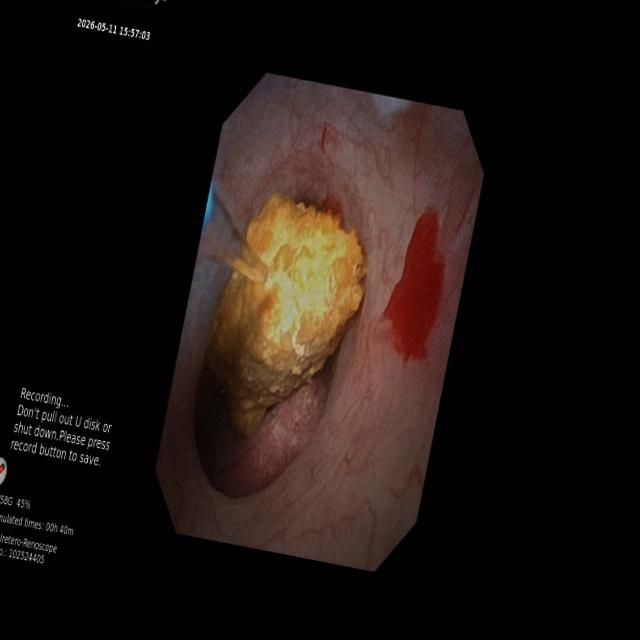laser-fibre: (198, 184, 267, 282)
stone-new: (210, 194, 366, 436)
